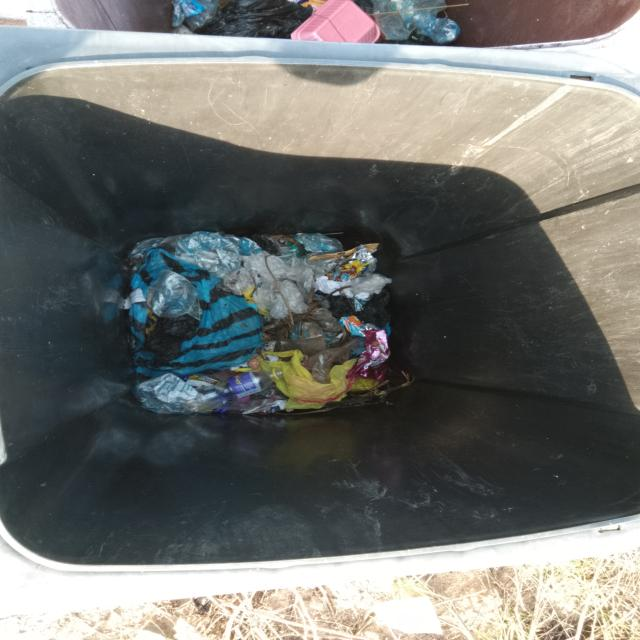half-full: (26, 52, 640, 570)
